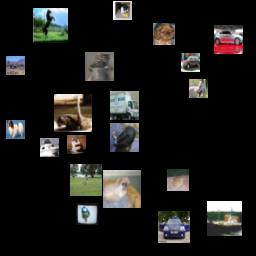airplane: (6, 56, 25, 75)
automobile: (158, 211, 190, 243), (214, 25, 243, 54), (181, 53, 200, 72)
bird: (54, 94, 92, 132), (70, 164, 102, 196), (110, 123, 139, 152), (76, 203, 98, 225)
cat: (85, 52, 114, 81), (67, 135, 86, 154)
dog: (103, 170, 141, 208), (153, 23, 175, 45), (6, 120, 25, 139), (189, 79, 208, 98), (113, 1, 132, 20)
frog: (167, 169, 189, 191)
ship: (207, 201, 242, 236), (40, 138, 59, 157)
truck: (110, 91, 139, 120)
